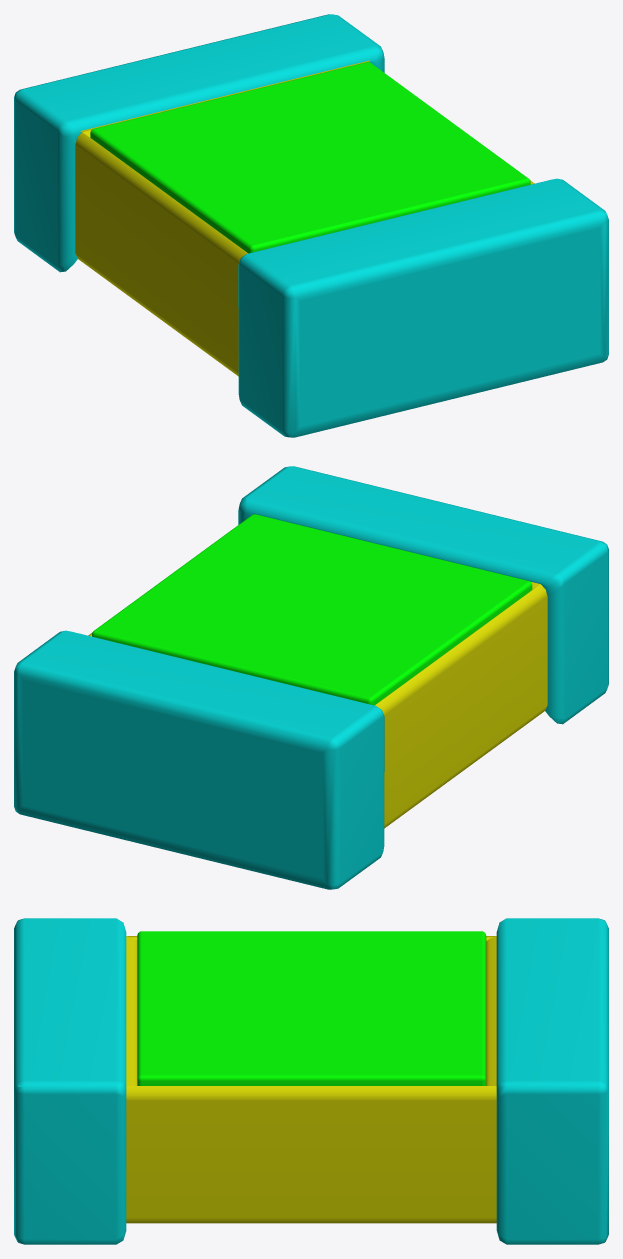
The model's file is Lab_LightBlock.fbx.
3 views of the same model, one above another, from view 1: azimuth 30°, elevation 25°; view 2: azimuth 150°, elevation 25°; view 3: azimuth 270°, elevation 25° (orthographic). The views are drawn at different scales.
Parts seen in each view (by area): view 1: Lab_LightBlock; view 2: Lab_LightBlock; view 3: Lab_LightBlock.
Part boxes in pixels (box(x1,y1,x2,y2)): Lab_LightBlock: box(14, 14, 608, 437); Lab_LightBlock: box(14, 466, 608, 889); Lab_LightBlock: box(14, 918, 608, 1244).
Size of the model in its own units: 30.36 by 13.37 by 44.72.
